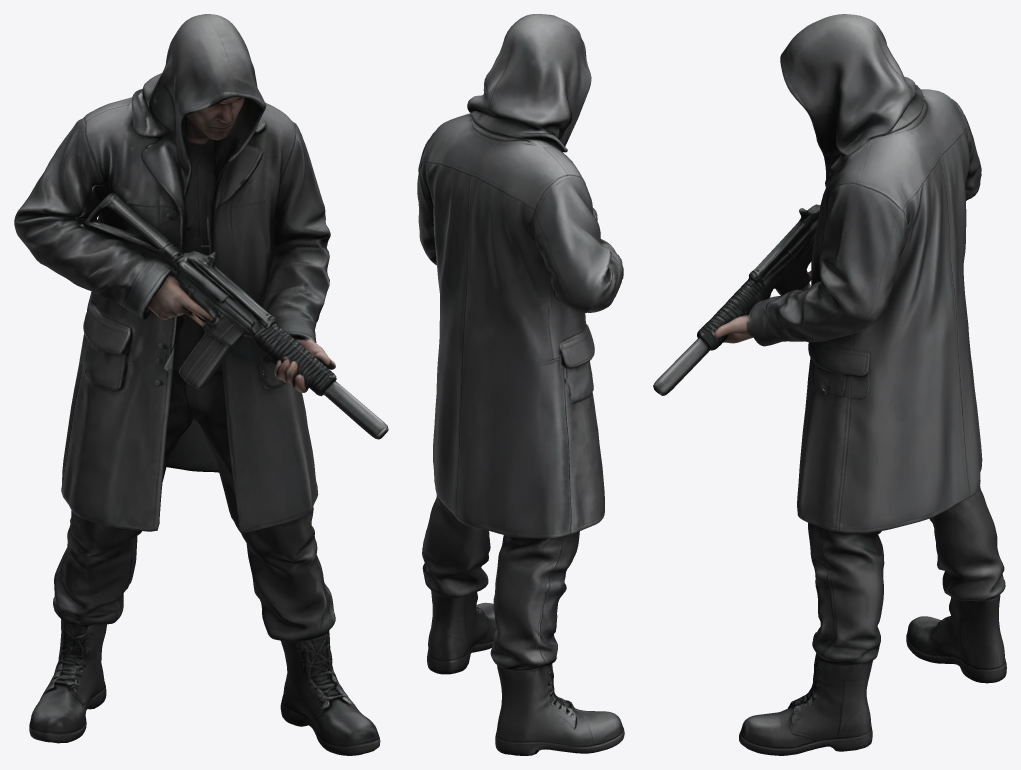
File: cultist-priest.glb
The picture shows the model from 3 angles, left to right: view 1: azimuth 30°, elevation 25°; view 2: azimuth 150°, elevation 25°; view 3: azimuth 270°, elevation 25°; orthographic projection. The views are drawn at different scales.
Visible parts, largest first — view 1: tripo_node_a2a3acca; view 2: tripo_node_a2a3acca; view 3: tripo_node_a2a3acca.
Part boxes in pixels (x1=…): tripo_node_a2a3acca: x1=14, y1=14, x2=388, y2=755; tripo_node_a2a3acca: x1=417, y1=14, x2=624, y2=755; tripo_node_a2a3acca: x1=653, y1=14, x2=1006, y2=755.
Bounding box in the file's own units: 36.97 × 97.94 × 45.88.
1 material, 1 textured.
